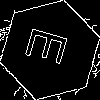E: (25, 25, 77, 70)
